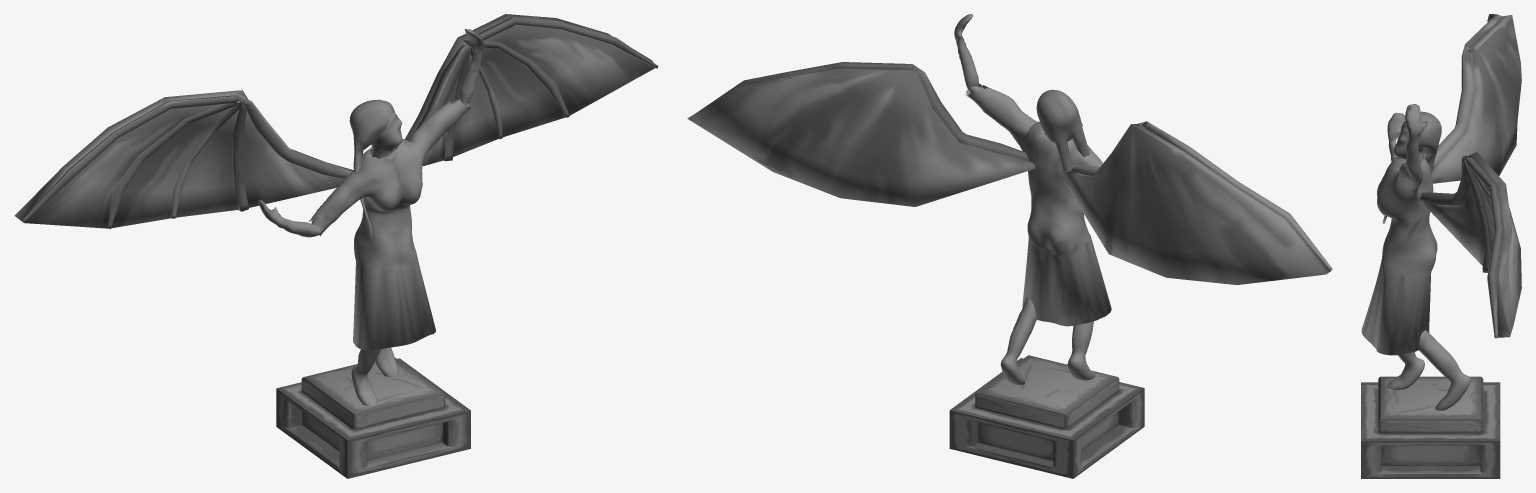
The model's file is Angel_Praise.obj.
3 renders of one model, left to right at view 1: azimuth 30°, elevation 25°; view 2: azimuth 150°, elevation 25°; view 3: azimuth 270°, elevation 25°, orthographic. The views are drawn at different scales.
Visible parts, largest first — view 1: Statue_Stand.004; view 2: Statue_Stand.004; view 3: Statue_Stand.004.
Boxes of the visible parts, bbox=[...] form: Statue_Stand.004: bbox=[14, 14, 658, 478]; Statue_Stand.004: bbox=[687, 14, 1332, 478]; Statue_Stand.004: bbox=[1361, 14, 1521, 478].
Size of the model in its own units: 39.37 by 23.25 by 8.79.
